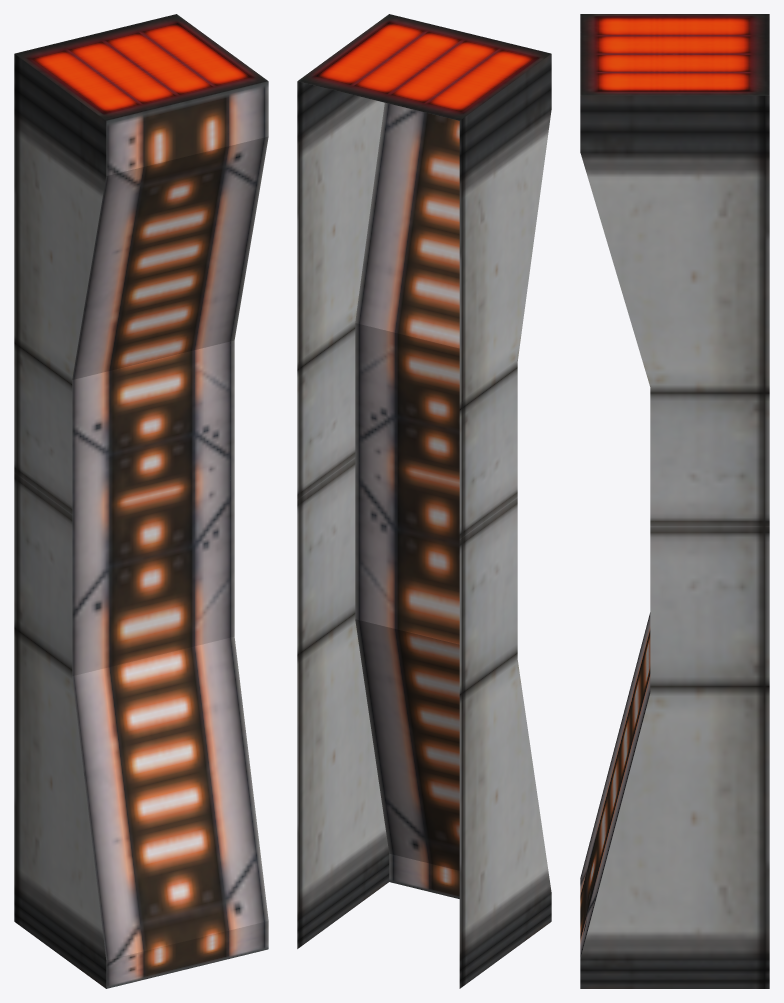
File: decoracaoparede2.fbx
3 renders of one model, left to right at view 1: azimuth 30°, elevation 25°; view 2: azimuth 150°, elevation 25°; view 3: azimuth 270°, elevation 25°, orthographic. The views are drawn at different scales.
Parts seen in each view (by area): view 1: Cylinder; view 2: Cylinder; view 3: Cylinder.
Part boxes in pixels (x1,y1,x2,y2): Cylinder: (14,14,268,988); Cylinder: (297,14,551,988); Cylinder: (580,14,769,988).
Size of the model in its own units: 0.585 by 2.99 by 0.5736.
